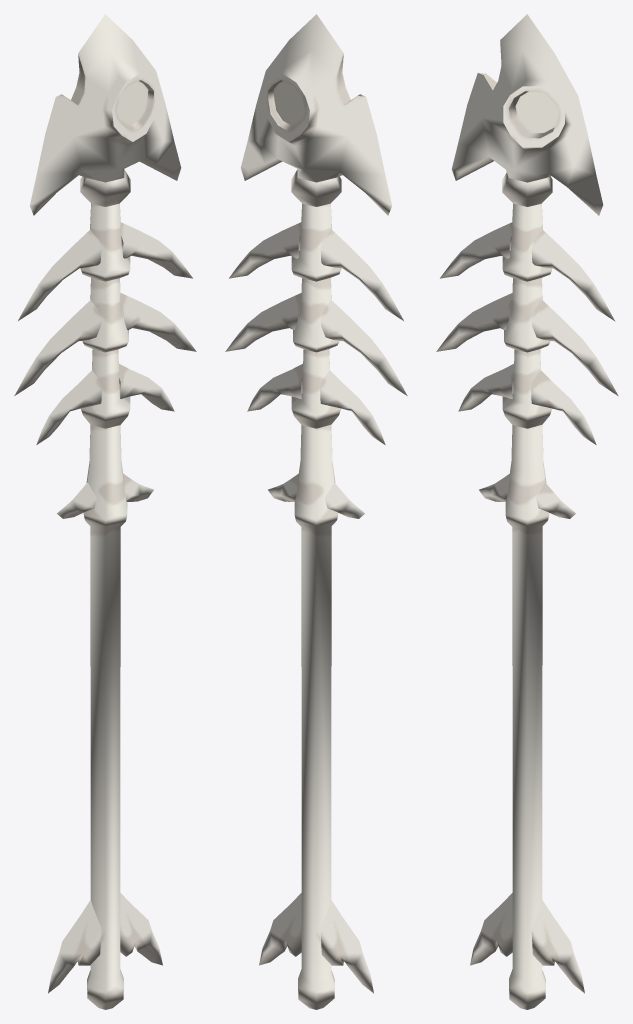
File: spear-static-l4.glb
3 renders of one model, left to right at view 1: azimuth 30°, elevation 25°; view 2: azimuth 150°, elevation 25°; view 3: azimuth 330°, elevation 25°, orthographic.
Visible parts, largest first — view 1: SM_Spear_V4; view 2: SM_Spear_V4; view 3: SM_Spear_V4.
Boxes of the visible parts, x1,y1,x2,y2 form: SM_Spear_V4: [14, 14, 196, 1009]; SM_Spear_V4: [225, 14, 407, 1009]; SM_Spear_V4: [436, 14, 618, 1009].
Size of the model in its own units: 46.55 by 242 by 14.72.
1 material, 1 textured.
